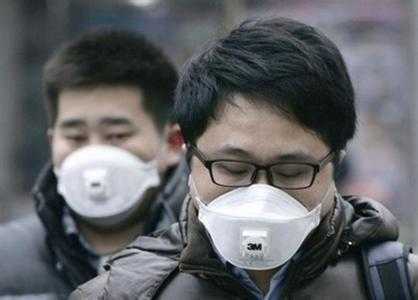yes_mask: (173, 17, 357, 271), (39, 27, 180, 219)
